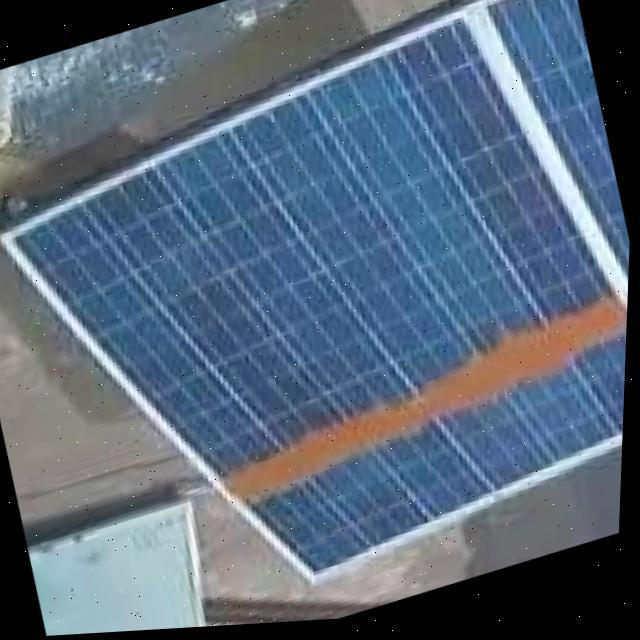Anomaly Solar Panel: (9, 0, 630, 628)
Surface Contaminant: (222, 300, 630, 520)
